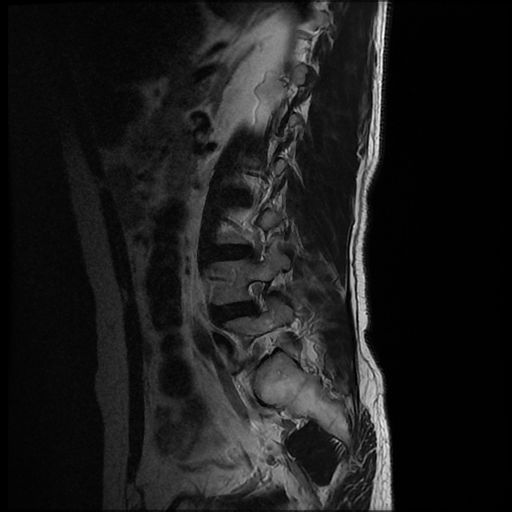LFS0: (237, 271, 280, 321)
